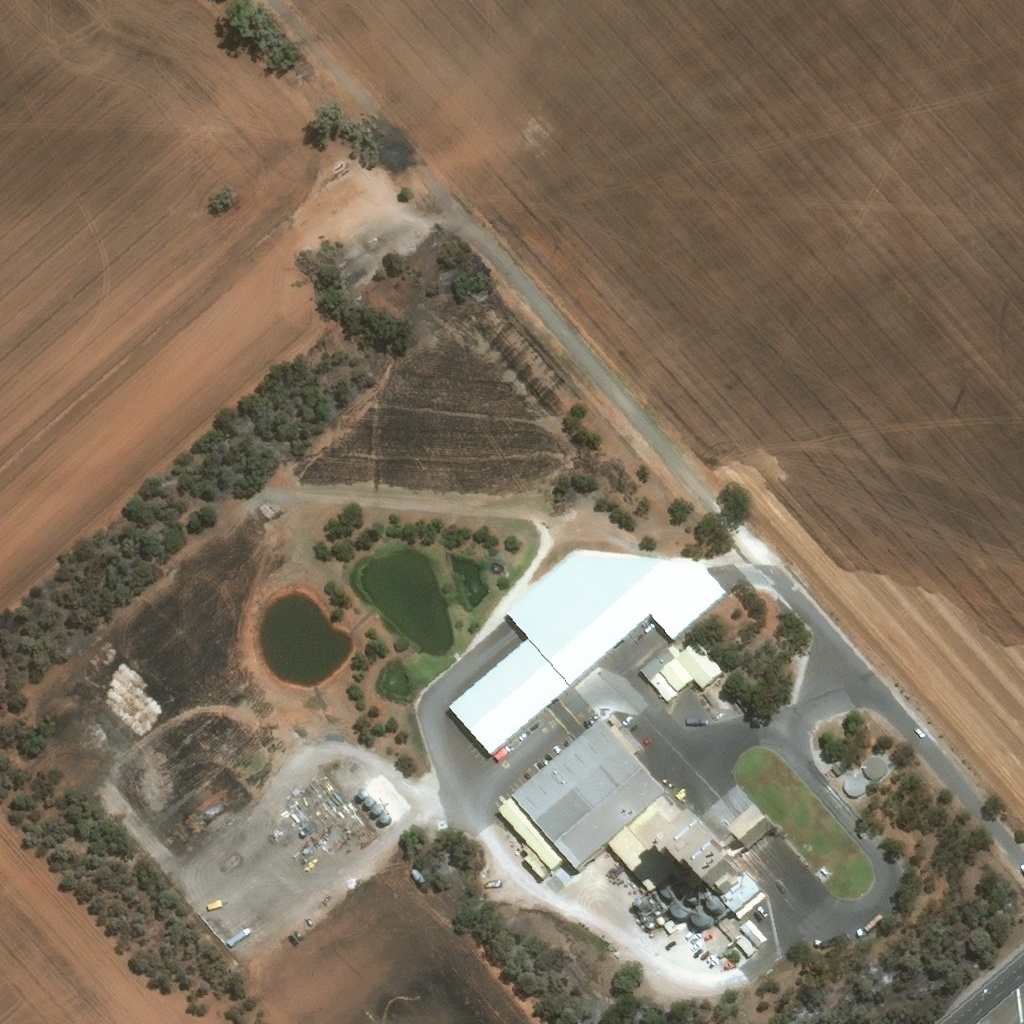0 no-damage: (508, 549, 728, 685), (513, 719, 666, 869), (607, 793, 763, 922), (451, 638, 572, 755), (498, 796, 567, 879), (640, 639, 725, 704), (660, 860, 731, 933), (734, 798, 775, 847), (357, 785, 392, 824), (740, 922, 767, 950), (863, 758, 887, 782), (842, 776, 867, 799), (736, 937, 757, 959), (830, 760, 851, 779), (409, 868, 428, 887)
4 un-classified: (354, 285, 366, 297), (368, 275, 376, 283)
